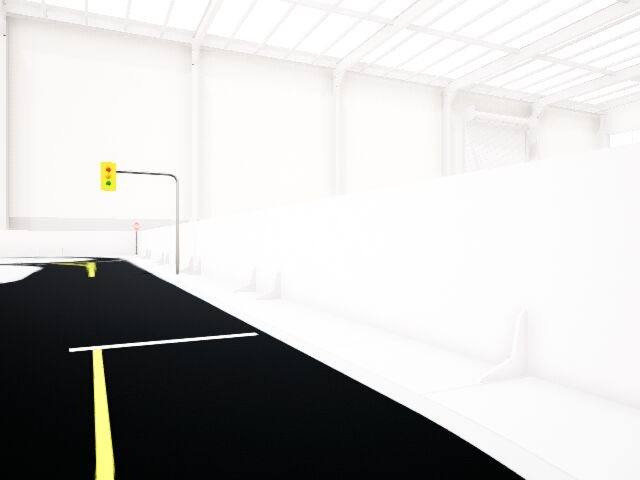red: (101, 162, 116, 192)
stopsign: (132, 222, 142, 232)
